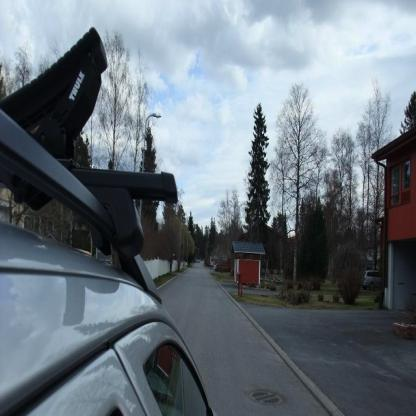Car: (0, 25, 224, 415)
